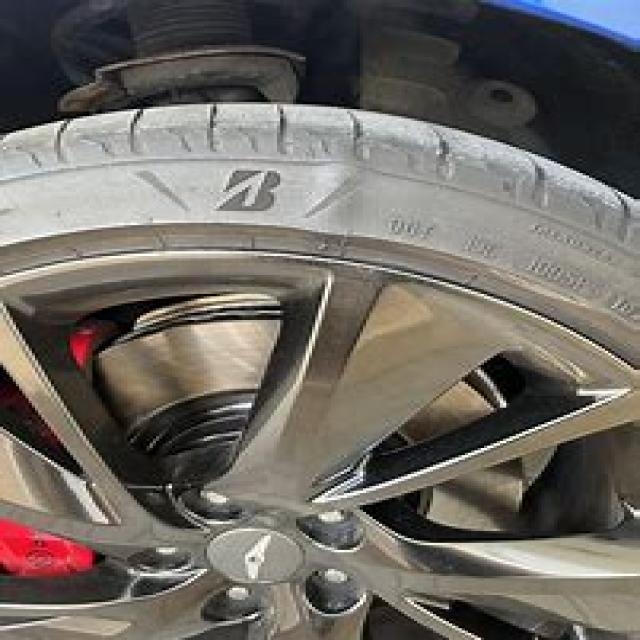Bulge: (298, 145, 373, 237)
